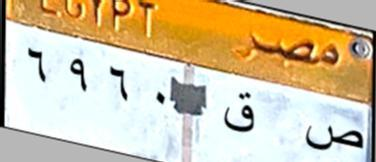0: (151, 86, 168, 109)
6: (106, 63, 132, 112), (22, 47, 50, 90)
9: (67, 53, 90, 100)
qaaf: (220, 87, 258, 139)
saad: (301, 110, 364, 160)
